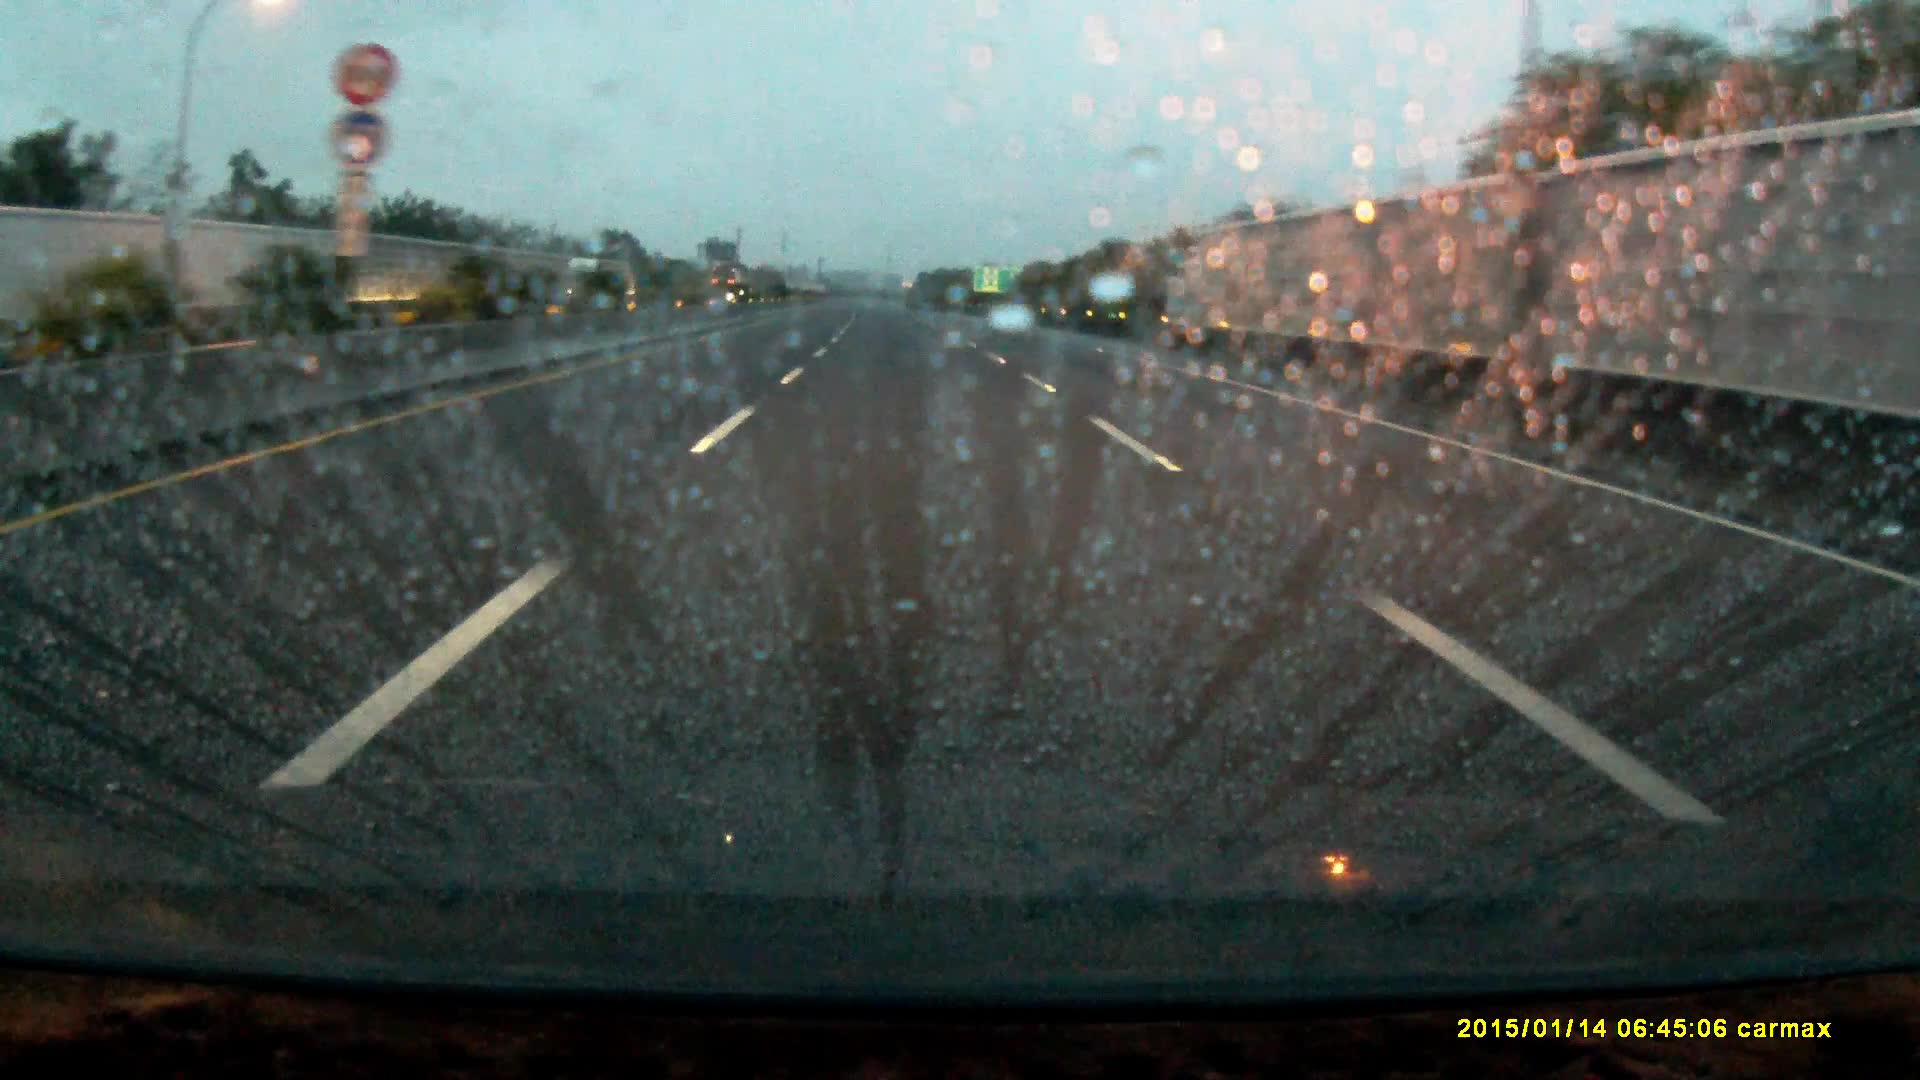vehicle: (560, 256, 622, 301), (708, 273, 744, 306)
